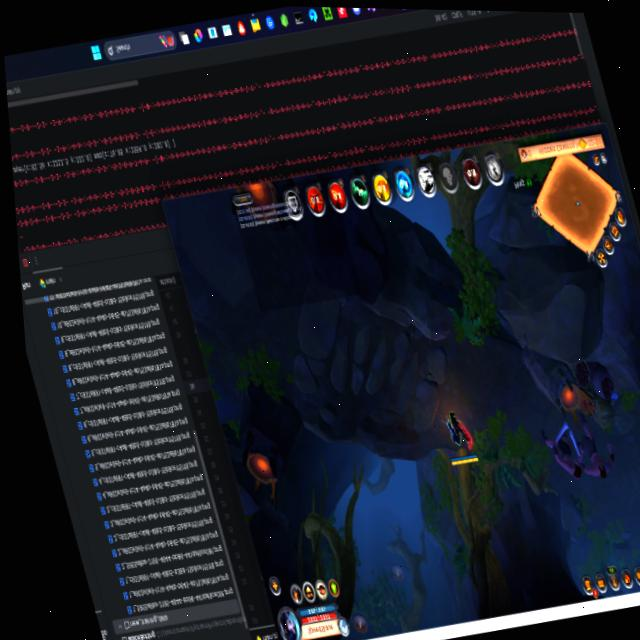ore: (554, 408, 628, 494), (536, 419, 590, 487)
red: (434, 404, 485, 470)
